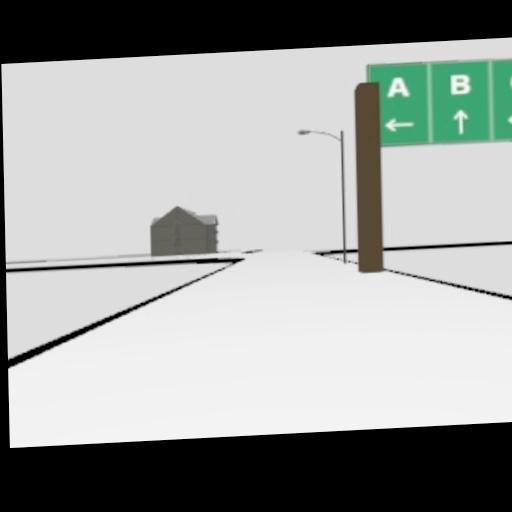A: (386, 75, 411, 100)
B: (450, 73, 471, 95)
C: (509, 71, 512, 92)
Left: (383, 116, 414, 133), (504, 112, 512, 128)
Straight: (452, 109, 468, 134)
